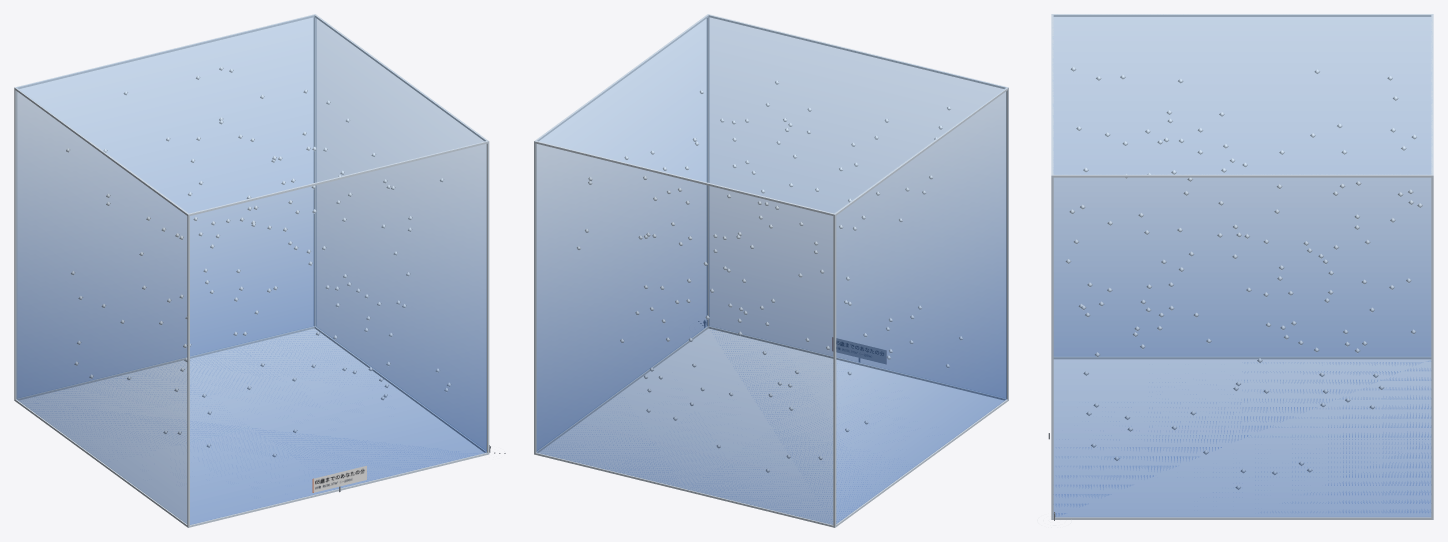
The model's file is cube_life_65.glb.
The picture shows the model from 3 angles, left to right: view 1: azimuth 30°, elevation 25°; view 2: azimuth 150°, elevation 25°; view 3: azimuth 270°, elevation 25°; orthographic projection. The views are drawn at different scales.
Parts seen in each view (by area): view 1: co2, edge, dots, label; view 2: co2, edge, dots, label; view 3: co2, edge, dots.
Part boxes in pixels (left/top/right/bottom): co2: left=16, top=15, right=486, bottom=524; edge: left=14, top=14, right=489, bottom=527; dots: left=66, top=66, right=451, bottom=457; label: left=312, top=465, right=366, bottom=492; co2: left=536, top=15, right=1006, bottom=524; edge: left=534, top=14, right=1008, bottom=527; dots: left=576, top=80, right=962, bottom=472; label: left=832, top=337, right=886, bottom=363; co2: left=1053, top=15, right=1432, bottom=516; edge: left=1051, top=14, right=1433, bottom=519; dots: left=1065, top=66, right=1422, bottom=489.
Bounding box in the file's own units: 69.88 × 66.11 × 68.98.
Materials: 8 (3 with a texture image).
